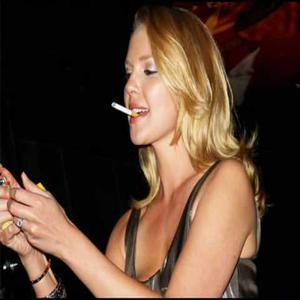cigarette: (110, 103, 143, 118)
